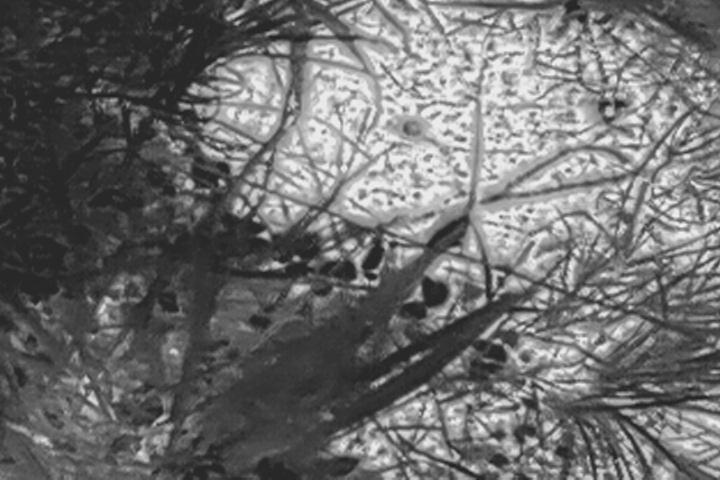landmine: (200, 1, 652, 260)
